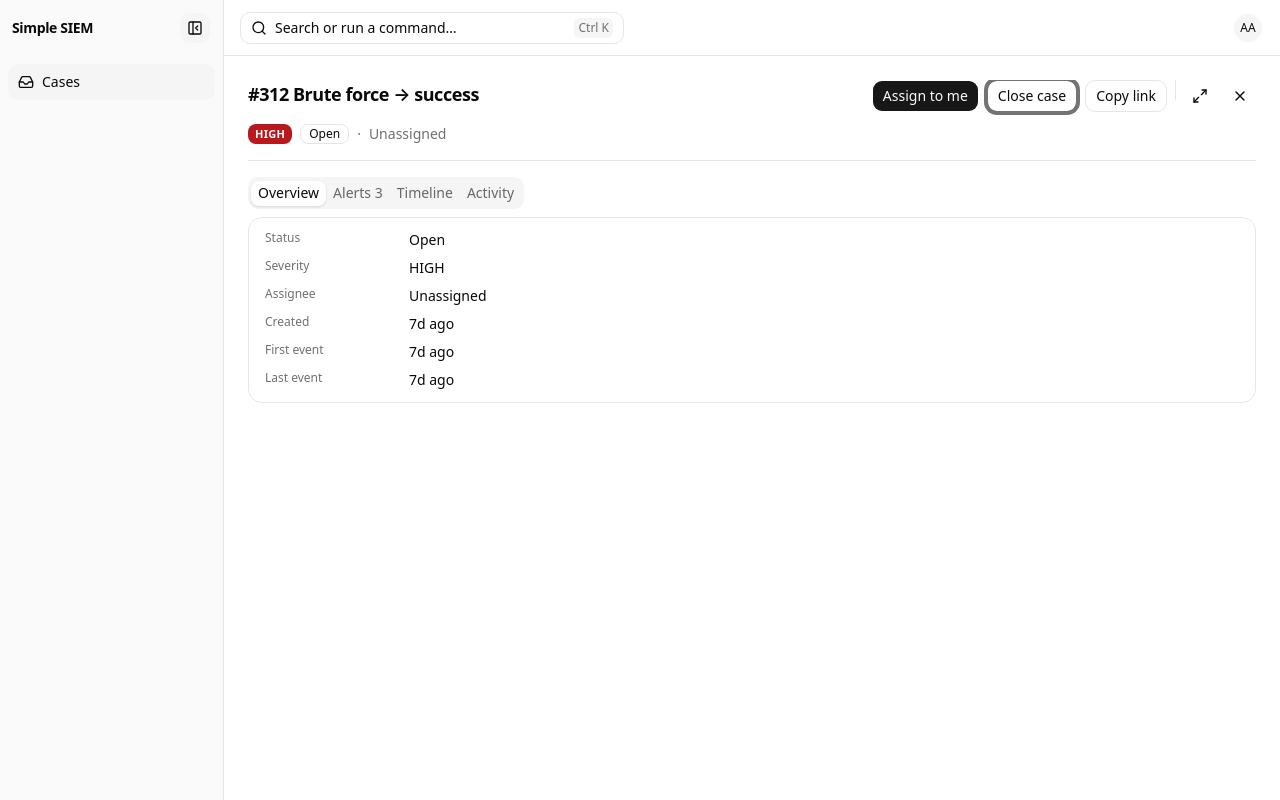
close case dialog › sends nothing and focuses Outcome when submitted empty
The image size is (1280, 800).
Later steps or results of the test are not shown.
Click the button "Close case" at (1032, 96), box [987,80,1077,112]
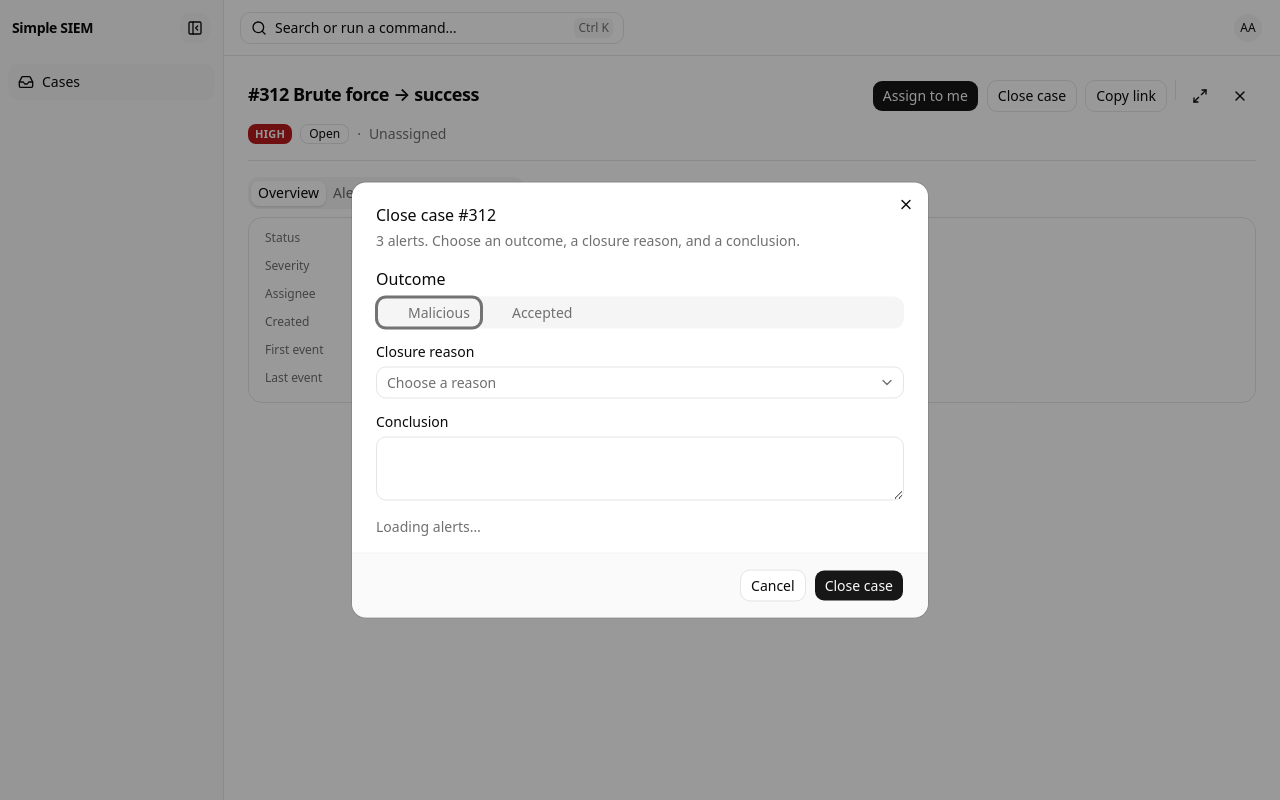
Click the button "Close case" at (859, 586), box [814,570,904,602]
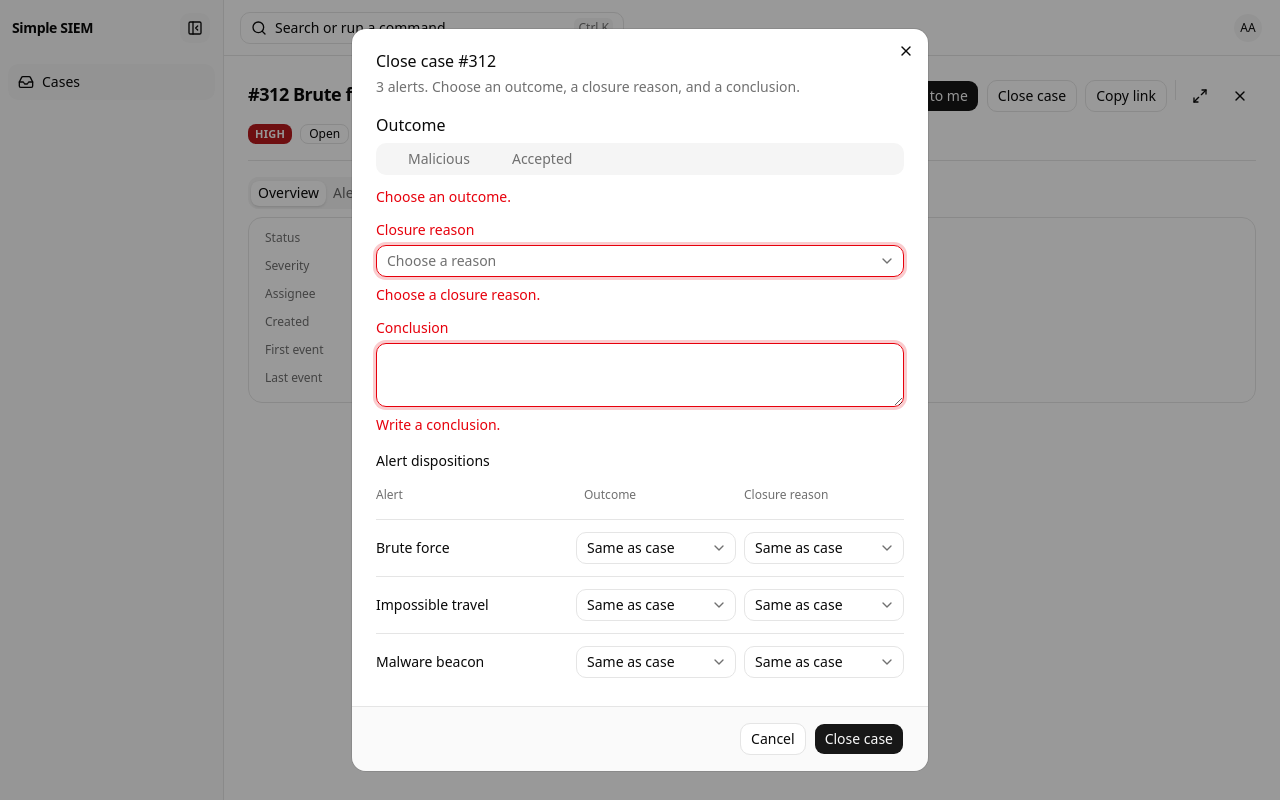
Check: the text "Choose an outcome." is shown, box [376,187,511,206]
Check: the text "Choose a closure reason." is shown, box [376,285,540,304]
Check: the text "Write a conclusion." is shown, box [376,415,500,434]
